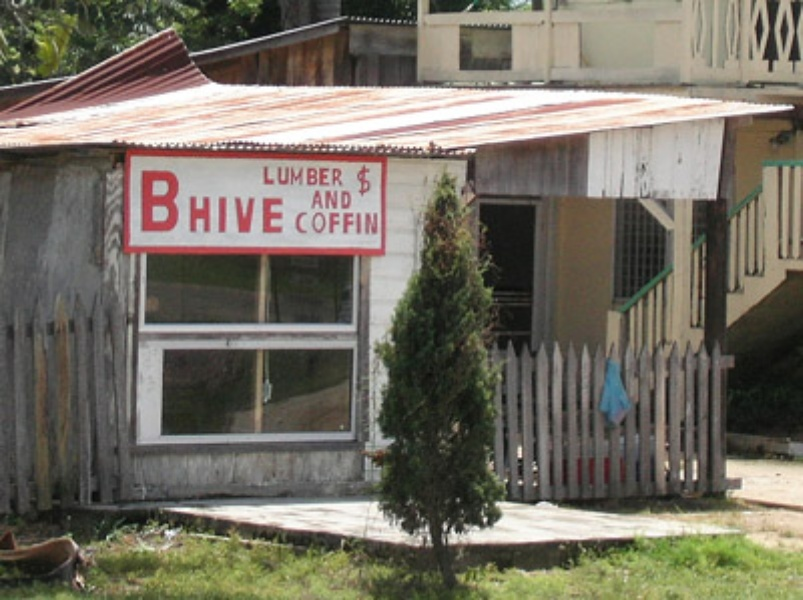text: (145, 169, 160, 233), (161, 169, 176, 233), (193, 195, 208, 233), (209, 195, 224, 233), (225, 195, 240, 233), (241, 195, 256, 233), (257, 195, 272, 233), (273, 195, 286, 233), (356, 163, 368, 197), (305, 211, 320, 235), (321, 211, 336, 235), (337, 211, 352, 235), (353, 211, 368, 235), (273, 165, 288, 187), (289, 165, 304, 187), (305, 165, 320, 187), (321, 165, 336, 187), (321, 189, 336, 211), (337, 189, 352, 211), (369, 211, 380, 235), (261, 165, 272, 187), (337, 165, 346, 187), (141, 169, 144, 233), (296, 211, 304, 235), (312, 189, 320, 211), (177, 169, 179, 233), (189, 195, 192, 233), (369, 163, 372, 197), (353, 189, 354, 211)
